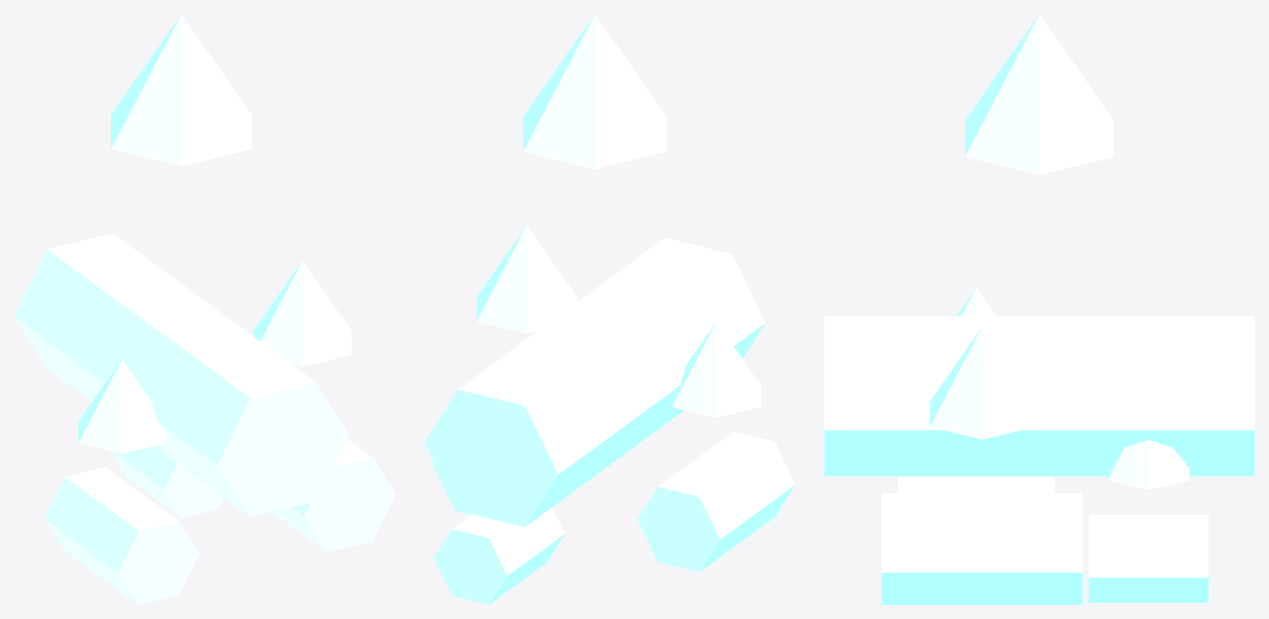
File: crystal_cluster.glb
3 renders of one model, left to right at view 1: azimuth 30°, elevation 25°; view 2: azimuth 150°, elevation 25°; view 3: azimuth 270°, elevation 25°, orthographic. The views are drawn at different scales.
Visible parts, largest first — view 1: crystal_cluster_0, crystal_cluster_1, crystal_cluster_4, crystal_cluster_2, crystal_cluster_3, crystal_cluster_5, crystal_cluster_6; view 2: crystal_cluster_0, crystal_cluster_1, crystal_cluster_4, crystal_cluster_6, crystal_cluster_3, crystal_cluster_5; view 3: crystal_cluster_0, crystal_cluster_2, crystal_cluster_1, crystal_cluster_6, crystal_cluster_3, crystal_cluster_7, crystal_cluster_4, crystal_cluster_5.
Boxes of the visible parts, box(x1,y1,x2,y2) form: crystal_cluster_0: box(14, 233, 348, 516); crystal_cluster_1: box(111, 14, 251, 166); crystal_cluster_4: box(44, 467, 199, 604); crystal_cluster_2: box(272, 438, 395, 552); crystal_cluster_3: box(253, 261, 351, 366); crystal_cluster_5: box(78, 359, 165, 453); crystal_cluster_6: box(109, 446, 223, 517); crystal_cluster_0: box(424, 237, 765, 527); crystal_cluster_1: box(523, 14, 666, 169); crystal_cluster_4: box(637, 431, 795, 572); crystal_cluster_6: box(433, 507, 564, 604); crystal_cluster_3: box(476, 225, 577, 333); crystal_cluster_5: box(672, 322, 760, 417); crystal_cluster_0: box(824, 316, 1254, 476); crystal_cluster_2: box(881, 493, 1082, 604); crystal_cluster_1: box(965, 14, 1113, 175); crystal_cluster_6: box(1088, 515, 1208, 602); crystal_cluster_3: box(930, 327, 1034, 439); crystal_cluster_7: box(1107, 440, 1189, 490); crystal_cluster_4: box(898, 476, 1054, 492); crystal_cluster_5: box(956, 287, 996, 316).
Bounding box in the file's own units: 1.18 × 2.14 × 1.5.
